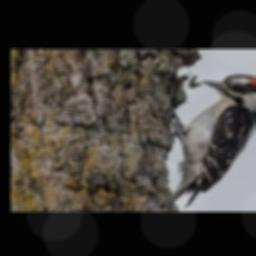Woodpecker: (171, 75, 256, 210)
